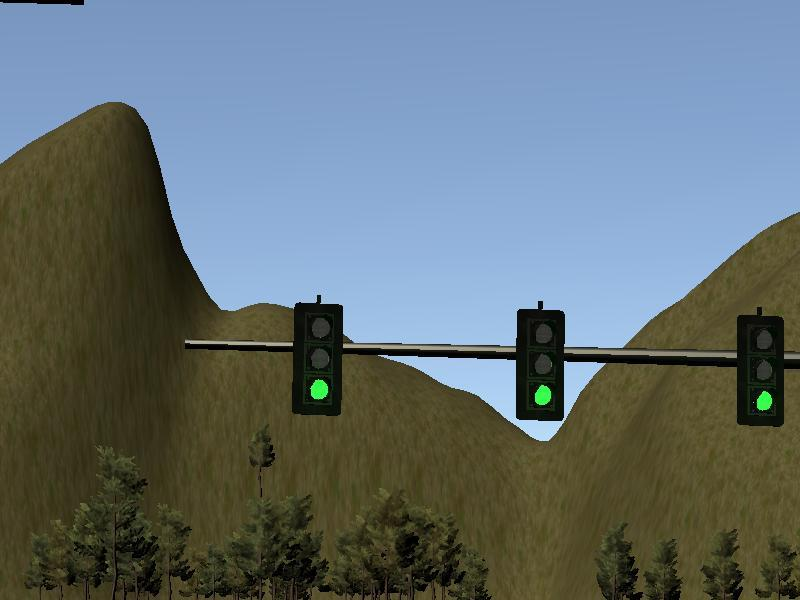Green: (518, 312, 563, 426), (739, 316, 781, 426), (297, 302, 339, 410)
